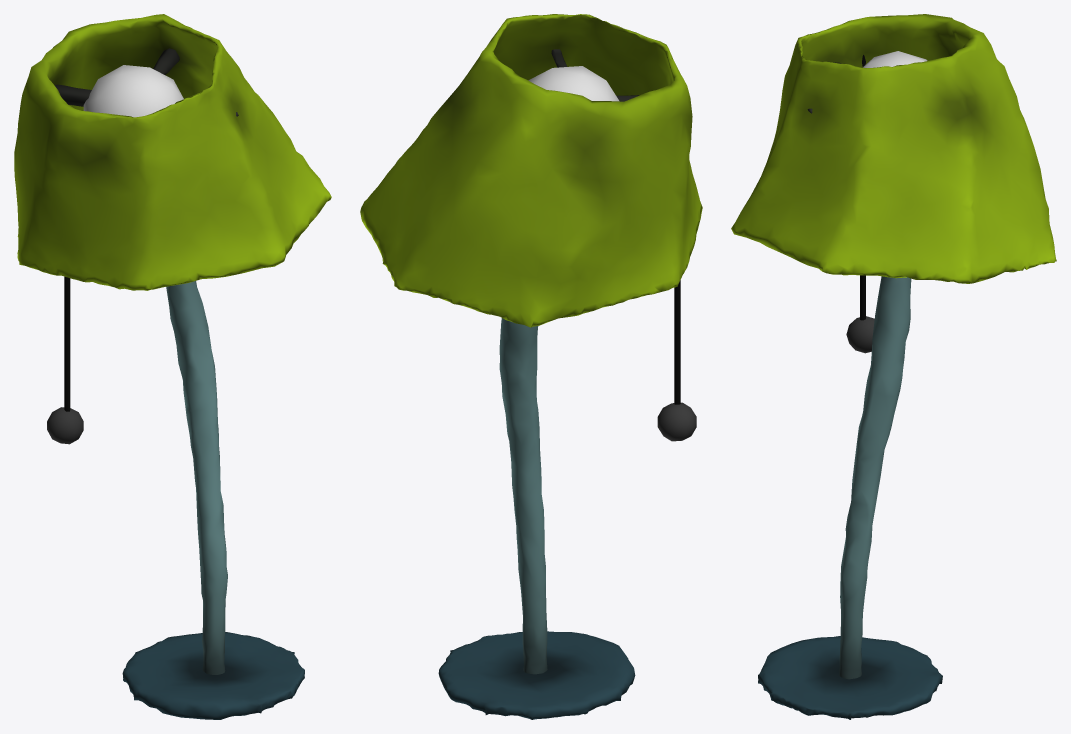
Rendered from msh_Lamp_01.fbx.
3 renders of one model, left to right at view 1: azimuth 30°, elevation 25°; view 2: azimuth 150°, elevation 25°; view 3: azimuth 270°, elevation 25°, orthographic. The views are drawn at different scales.
Parts seen in each view (by area): view 1: lamp; view 2: lamp; view 3: lamp.
Part boxes in pixels (<box>): lamp: <box>14,14,331,719</box>; lamp: <box>360,14,702,719</box>; lamp: <box>731,14,1056,719</box>.
Bounding box in the file's own units: 0.9934 × 2.19 × 1.03.
